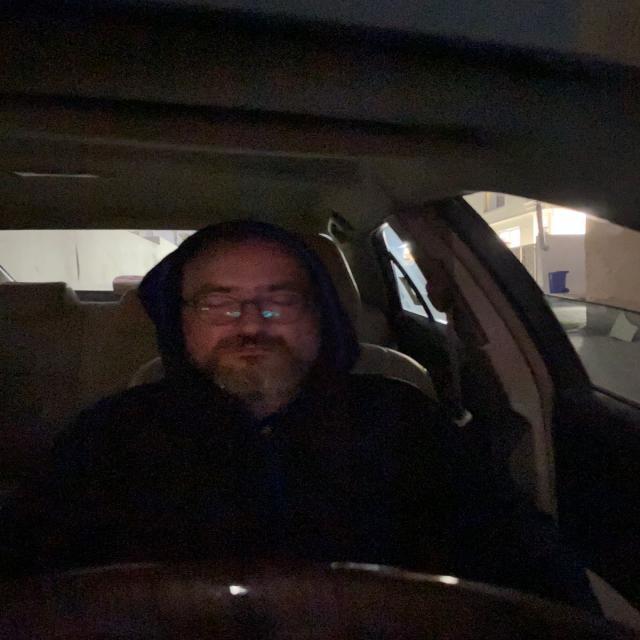drowsy: (146, 210, 348, 407)
